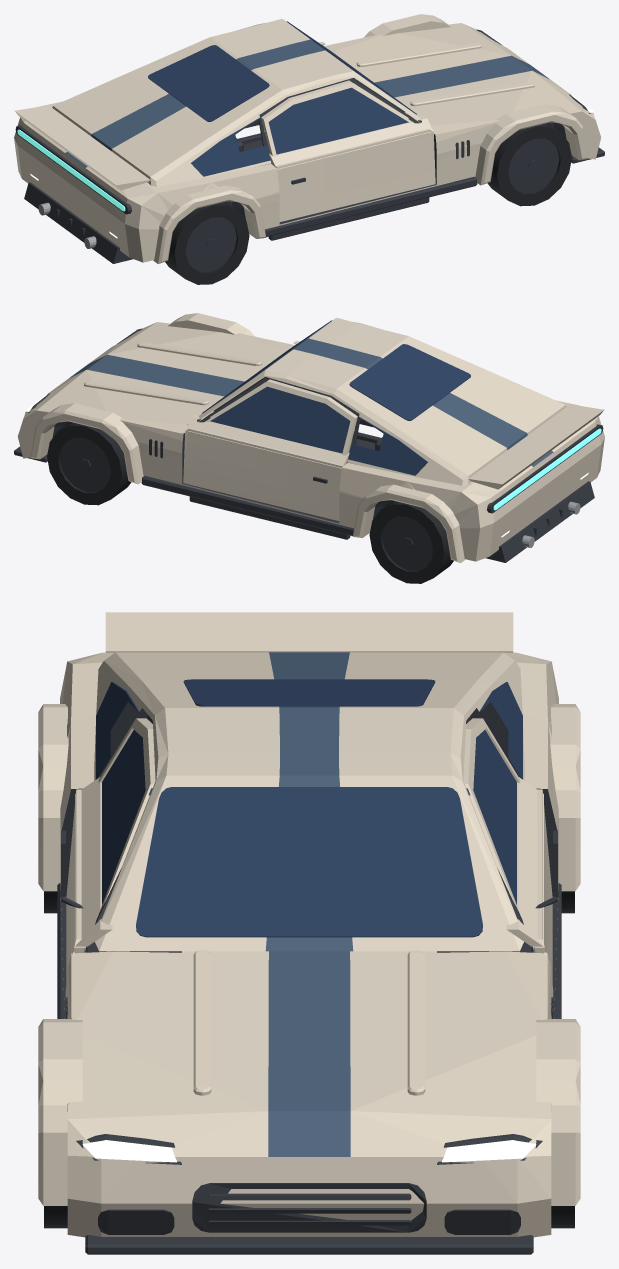
3 views of the same model, one above another, from view 1: azimuth 30°, elevation 25°; view 2: azimuth 150°, elevation 25°; view 3: azimuth 270°, elevation 25° (orthographic). The views are drawn at different scales.
Parts seen in each view (by area): view 1: G26_body, door-right, wheel-front-right, wheel-rear-right; view 2: G26_body, door-left, wheel-front-left, wheel-rear-left; view 3: G26_body, door-left, door-right.
Part boxes in pixels (<box>): G26_body: <box>14,14,604,263</box>; door-right: <box>258,78,435,221</box>; wheel-front-right: <box>487,123,571,206</box>; wheel-rear-right: <box>165,201,249,284</box>; G26_body: <box>14,313,604,562</box>; door-left: <box>183,377,360,520</box>; wheel-front-left: <box>47,422,131,505</box>; wheel-rear-left: <box>369,500,453,583</box>; G26_body: <box>38,612,580,1254</box>; door-left: <box>463,715,557,982</box>; door-right: <box>61,715,155,982</box>.
Bounding box in the file's own units: 4.4 × 1.29 × 2.13.
